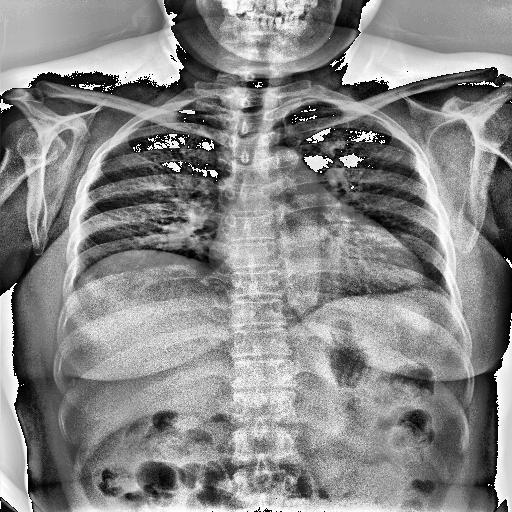3- Cardiomegaly: (208, 230, 428, 298), (205, 230, 422, 287), (207, 244, 427, 288)
